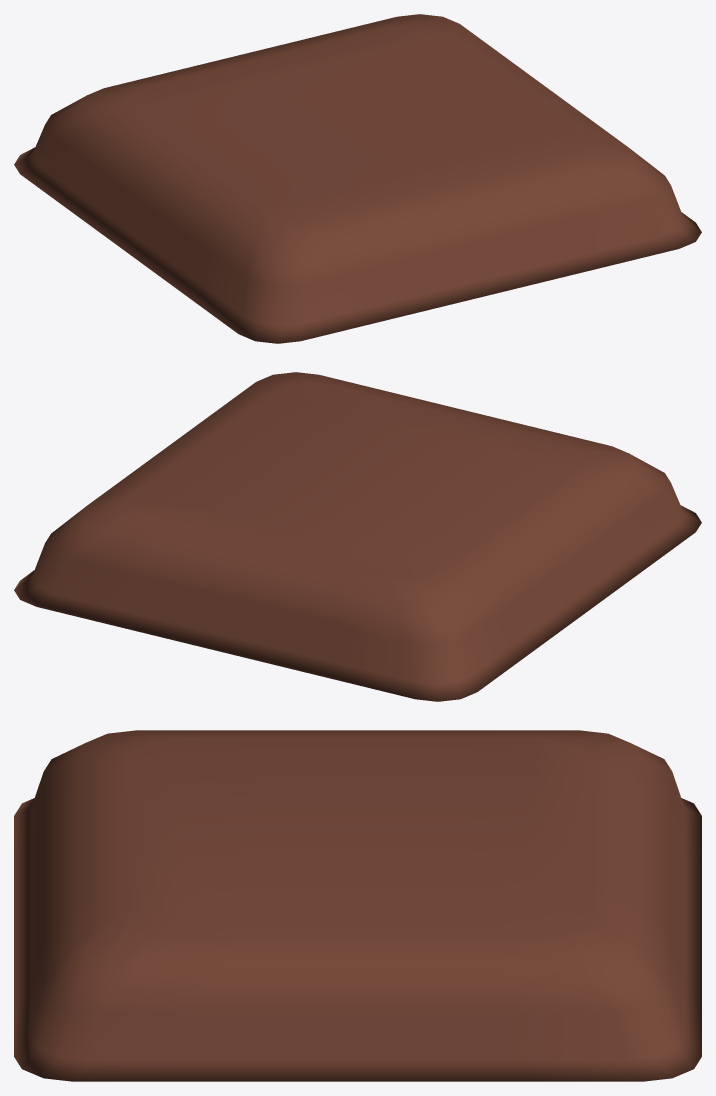
Rendered from soil mound.glb.
3 views of the same model, one above another, from view 1: azimuth 30°, elevation 25°; view 2: azimuth 150°, elevation 25°; view 3: azimuth 270°, elevation 25° (orthographic). The views are drawn at different scales.
Visible parts, largest first — view 1: Cube; view 2: Cube; view 3: Cube.
Boxes of the visible parts, box(x1,y1,x2,y2) form: Cube: box(14, 14, 701, 343); Cube: box(14, 372, 701, 701); Cube: box(14, 730, 701, 1081).
Bounding box in the file's own units: 2.1 × 0.3336 × 2.1.
